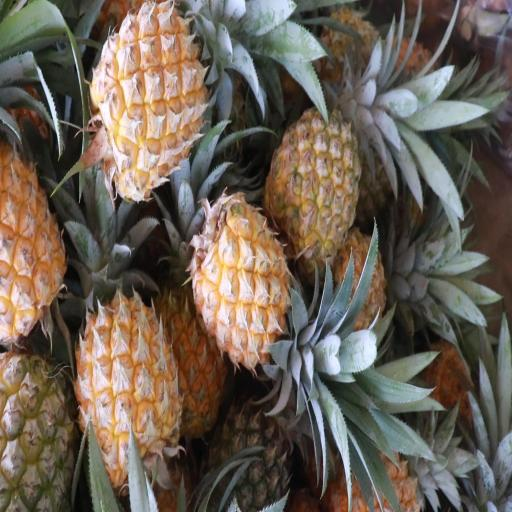------------------------------: (269, 97, 359, 262), (0, 349, 78, 511)
Pineapple - v8 v1: (94, 0, 213, 195), (80, 302, 179, 484), (192, 195, 290, 370), (0, 135, 66, 344), (159, 288, 224, 434)
